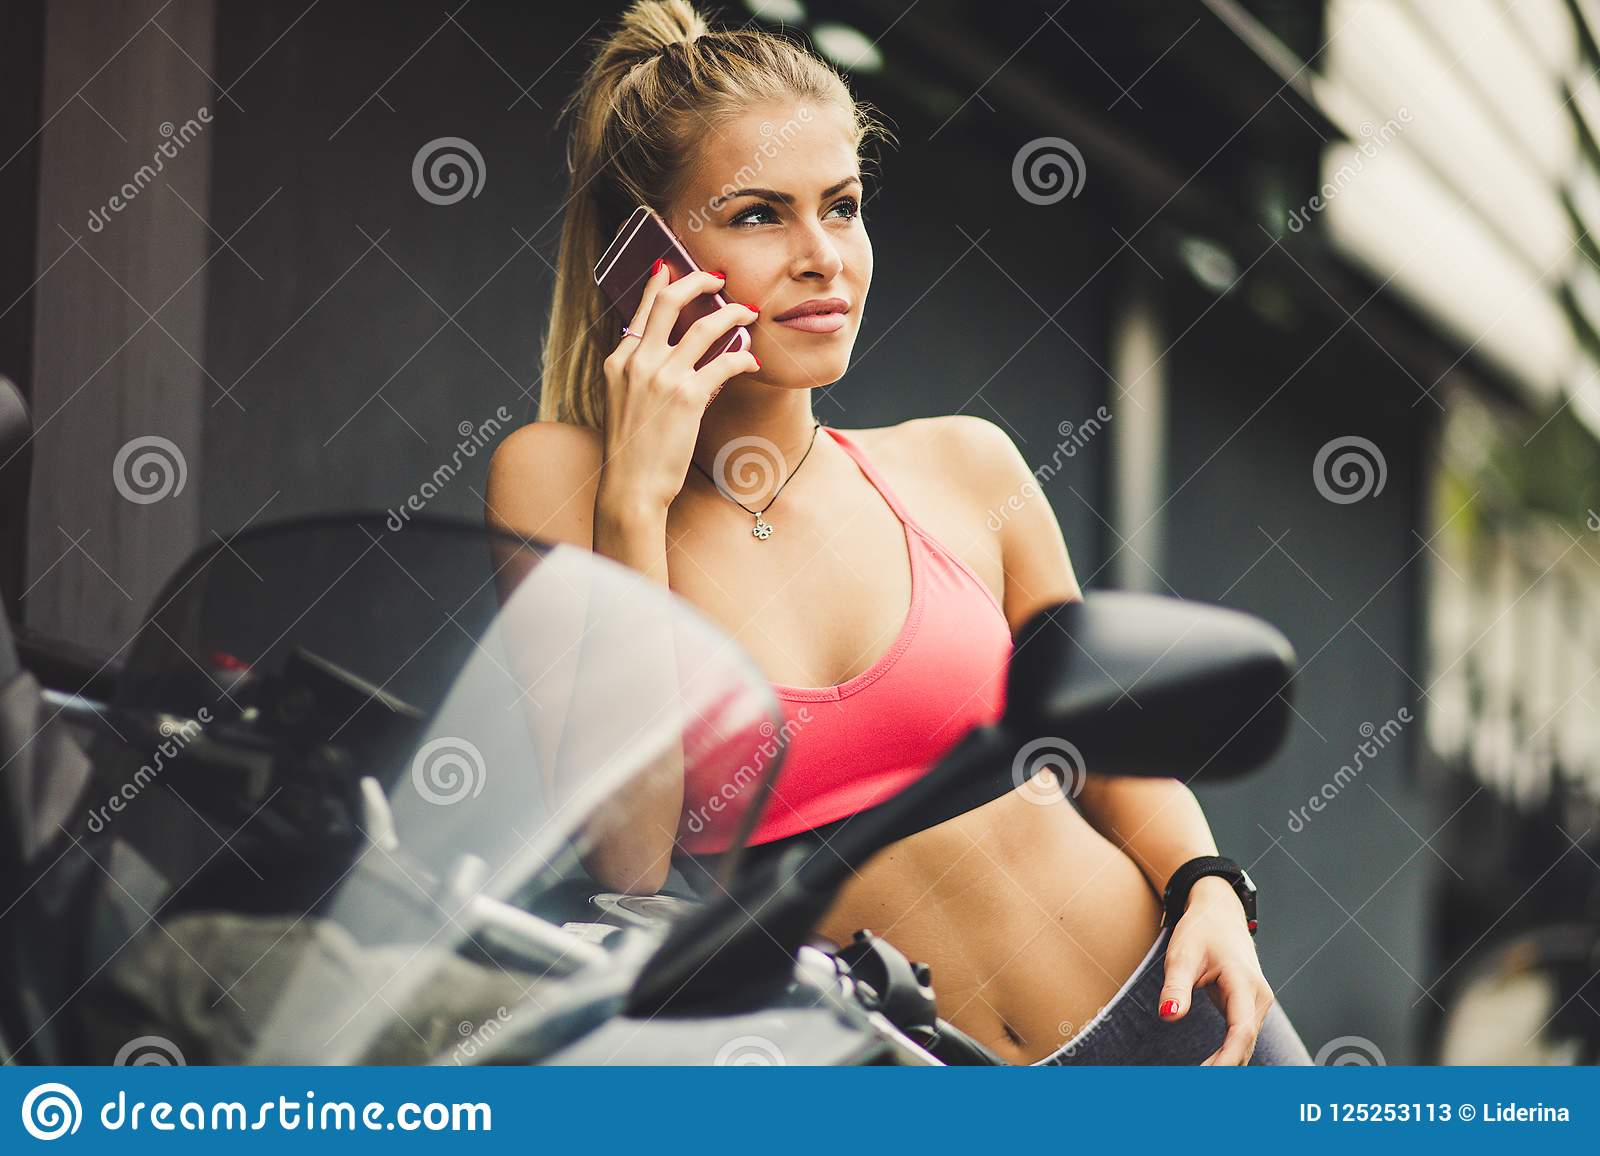phone: (591, 207, 752, 418)
talk: (585, 161, 876, 548)
